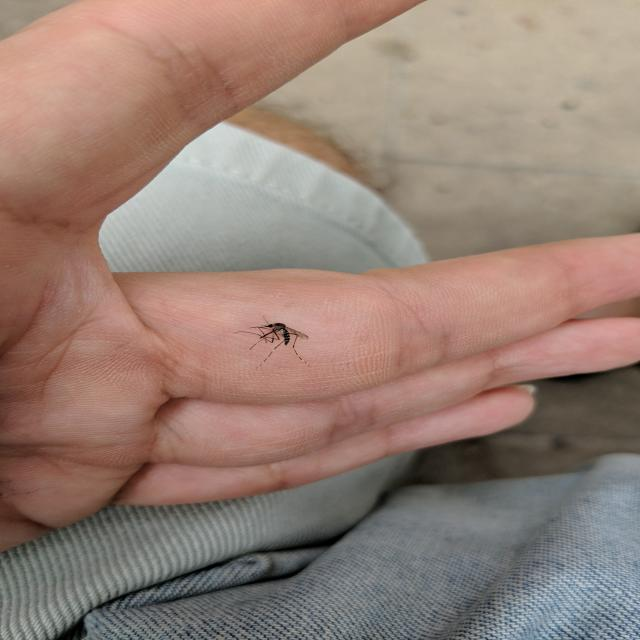albopictus: (236, 314, 320, 370)
